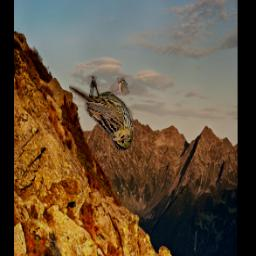Sparrow: (69, 75, 135, 151)
